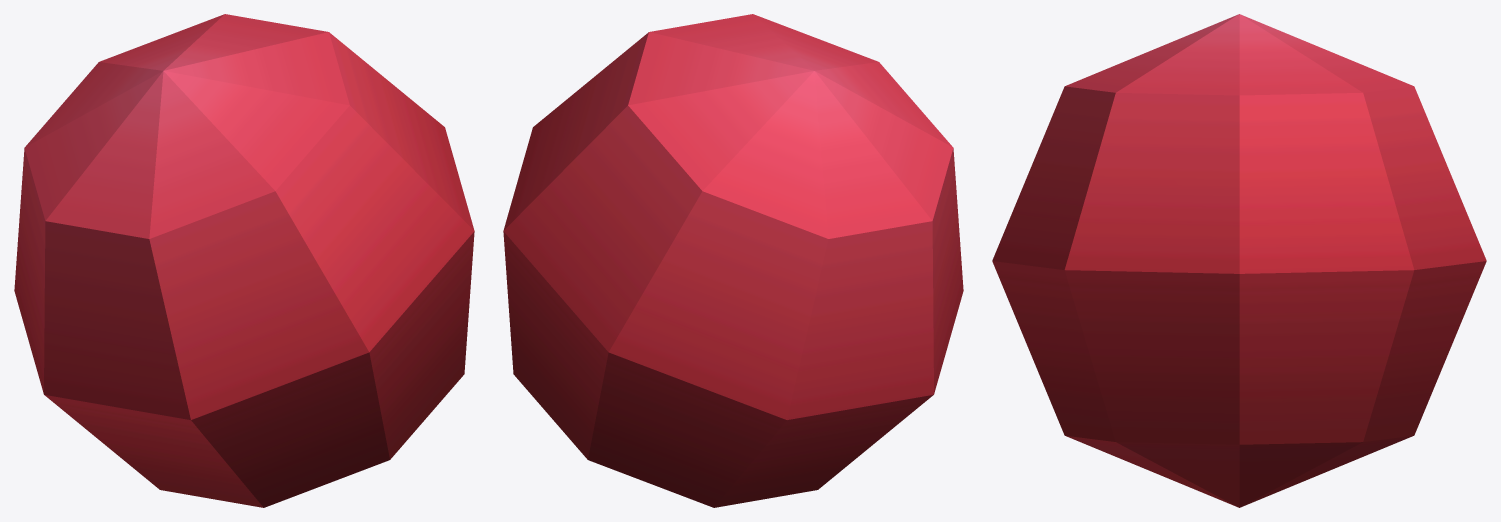
The model's file is Wolf_redNose.obj.
3 renders of one model, left to right at view 1: azimuth 30°, elevation 25°; view 2: azimuth 150°, elevation 25°; view 3: azimuth 270°, elevation 25°, orthographic.
Visible parts, largest first — view 1: Wolf_redNose_tri; view 2: Wolf_redNose_tri; view 3: Wolf_redNose_tri.
Boxes of the visible parts, <box> form: Wolf_redNose_tri: <box>14,14,474,507</box>; Wolf_redNose_tri: <box>503,14,963,507</box>; Wolf_redNose_tri: <box>992,14,1486,507</box>.
Size of the model in its own units: 0.0312 by 0.0312 by 0.0336.
Materials: 1 (1 with a texture image).
